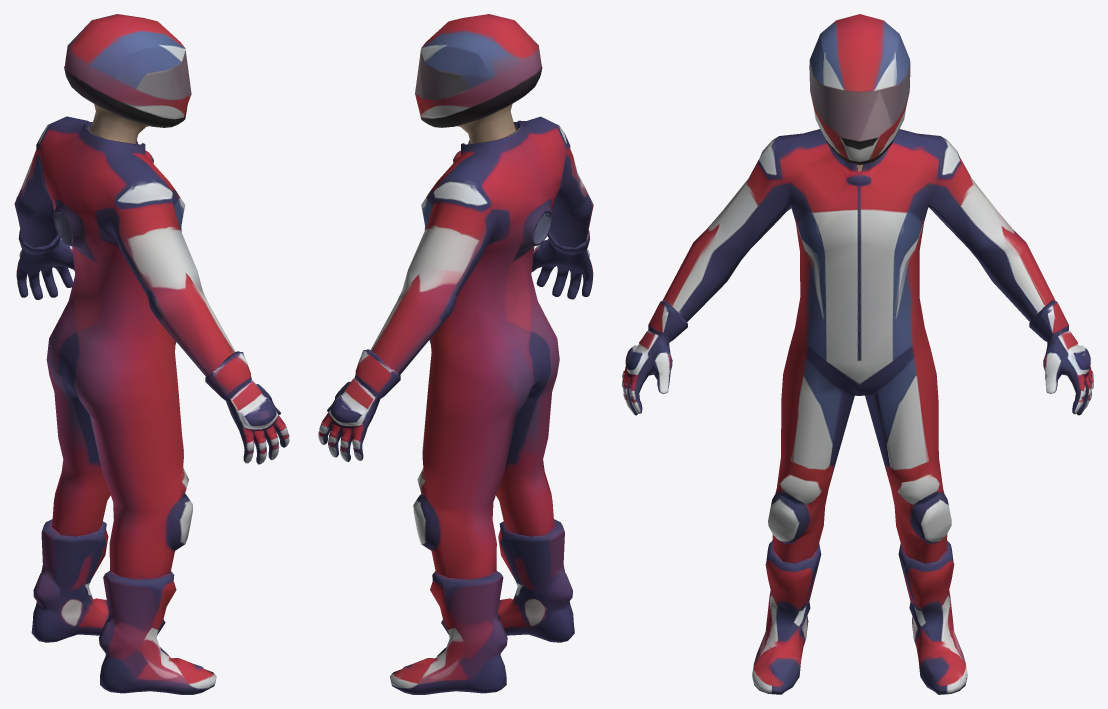
The model's file is Low_Poly_Motorcyclist_3.gltf.
3 renders of one model, left to right at view 1: azimuth 30°, elevation 25°; view 2: azimuth 150°, elevation 25°; view 3: azimuth 270°, elevation 25°, orthographic.
Parts seen in each view (by area): view 1: tripo_node_87f9772a-8276-4f69-bfcb-62061079ddd5; view 2: tripo_node_87f9772a-8276-4f69-bfcb-62061079ddd5; view 3: tripo_node_87f9772a-8276-4f69-bfcb-62061079ddd5.
Part boxes in pixels (left/top/right/bottom): tripo_node_87f9772a-8276-4f69-bfcb-62061079ddd5: left=14, top=14, right=289, bottom=694; tripo_node_87f9772a-8276-4f69-bfcb-62061079ddd5: left=318, top=14, right=593, bottom=694; tripo_node_87f9772a-8276-4f69-bfcb-62061079ddd5: left=622, top=14, right=1093, bottom=694.
Bounding box in the file's own units: 0.2056 × 0.9995 × 0.6567.
1 material, 1 textured.
